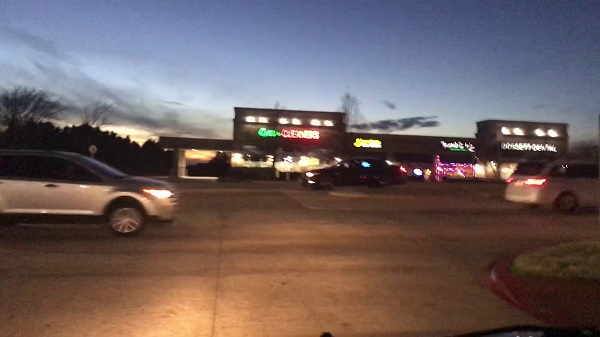car: (3, 147, 179, 233), (505, 157, 598, 216), (306, 159, 403, 189)
